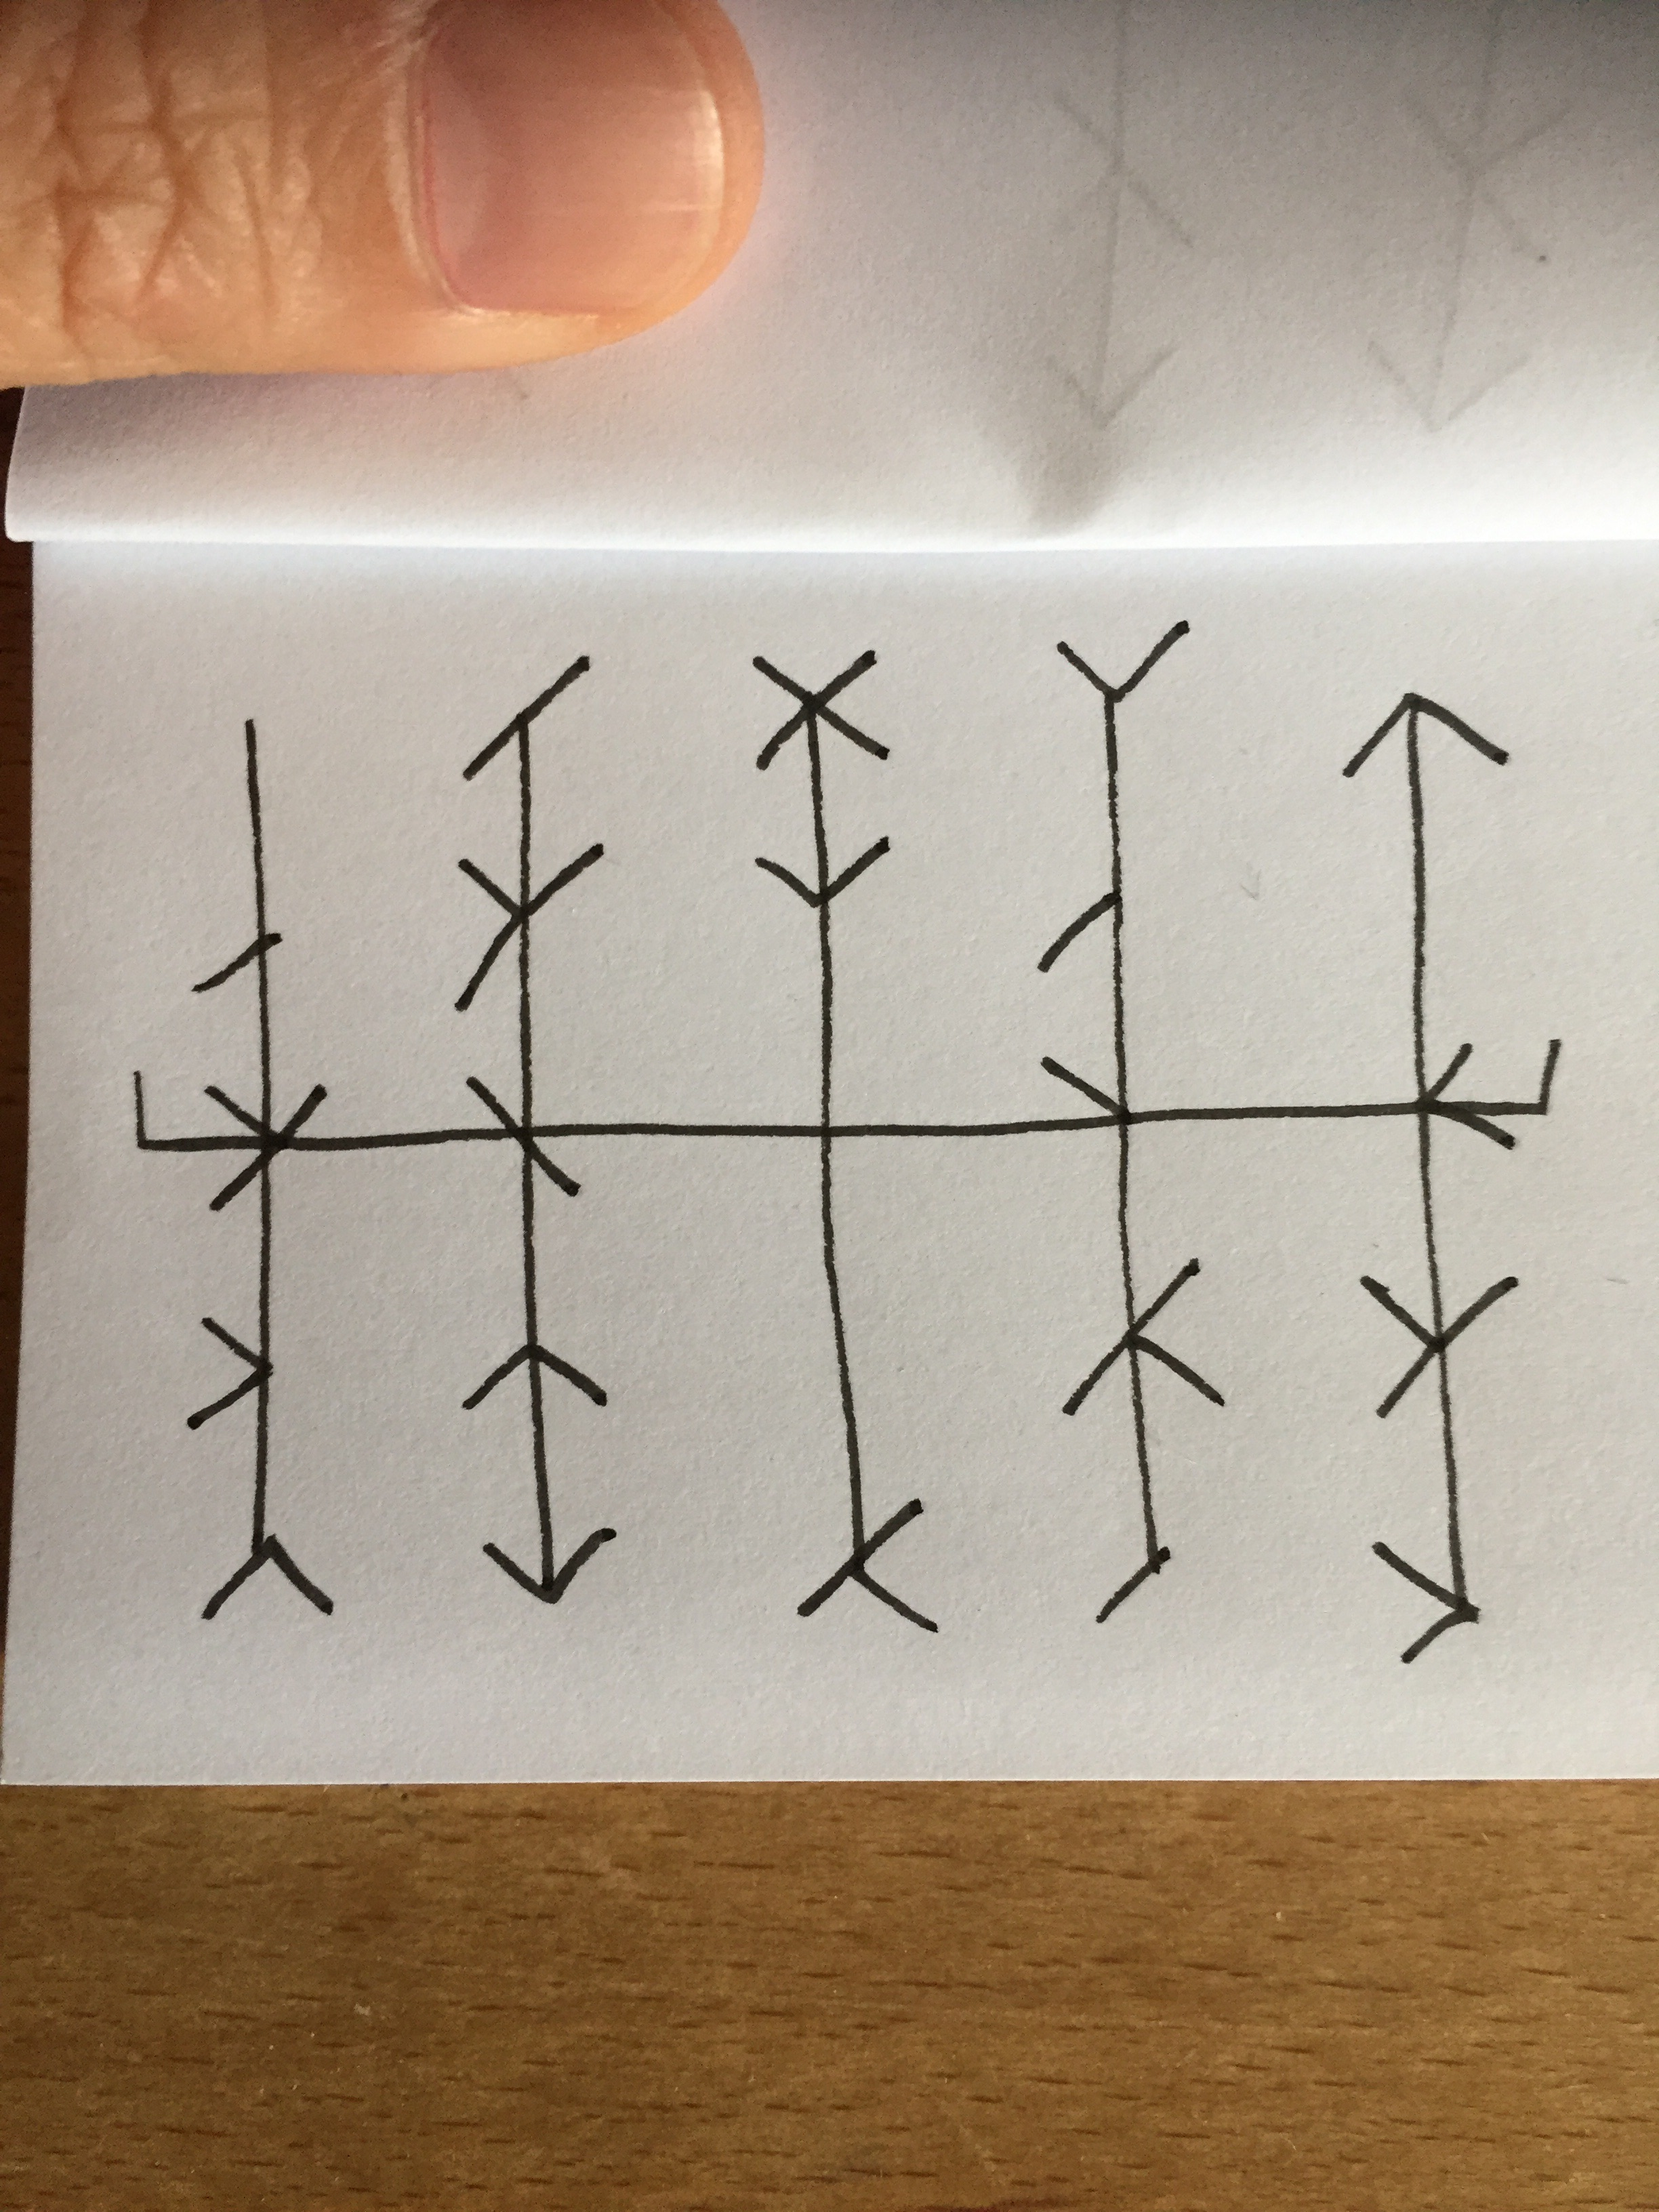Bar: (1033, 620, 1227, 1629), (749, 650, 939, 1630), (1342, 690, 1520, 1663), (455, 653, 619, 1606), (186, 716, 338, 1620)
Barcode: (131, 618, 1565, 1665)
End: (1490, 1036, 1567, 1122)
Start: (132, 1073, 204, 1153)
